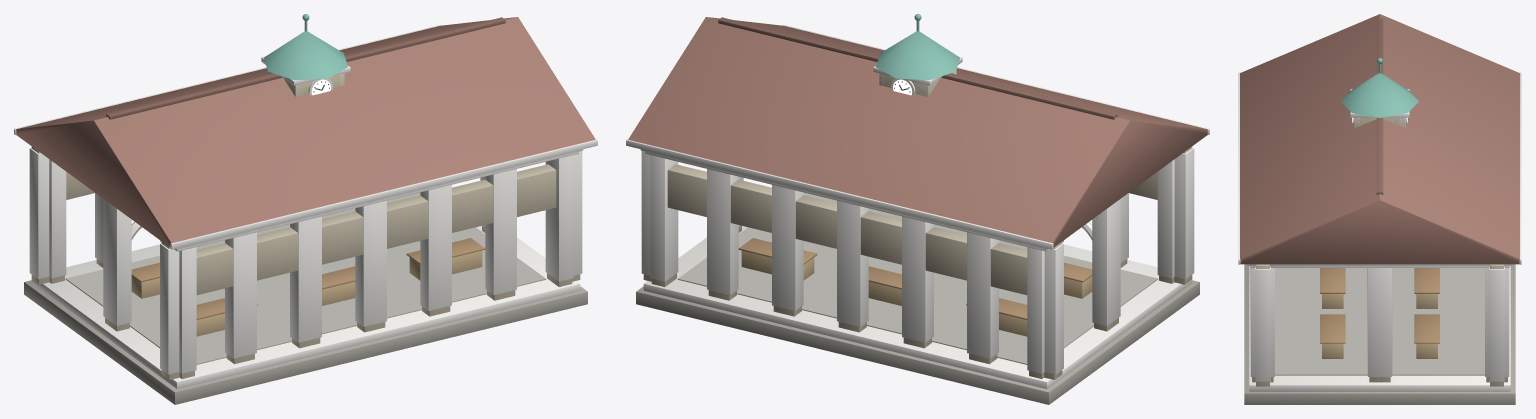
The model's file is th48_markthalle.glb.
The picture shows the model from 3 angles, left to right: view 1: azimuth 30°, elevation 25°; view 2: azimuth 150°, elevation 25°; view 3: azimuth 270°, elevation 25°; orthographic projection. The views are drawn at different scales.
Parts seen in each view (by area): view 1: Satteldach, Cube.056, Cube.001, Cube, Cube.011, Cube.007, Cube.019, Cube.015, Cube.023, Cube.033, Cube.069, Cube.037 (+21 smaller); view 2: Satteldach, Cube.056, Cube.001, Cube, Cube.013, Cube.009, Cube.021, Cube.017, Cube.025, Cube.033, Cube.070, Cube.041 (+21 smaller); view 3: Satteldach, Cube.056, Cube, Cube.001, Cube.039, Cone, Cube.027, Cube.029, Cube.037, Cube.041, Cube.071, Cube.066 (+12 smaller).
Boxes of the visible parts, bbox=[...] form: Satteldach: bbox=[16, 17, 595, 247]; Cube.056: bbox=[65, 192, 546, 364]; Cube.001: bbox=[31, 226, 580, 388]; Cube: bbox=[24, 280, 587, 404]; Cube.011: bbox=[290, 216, 321, 342]; Cube.007: bbox=[225, 232, 256, 358]; Cube.019: bbox=[420, 184, 451, 310]; Cube.015: bbox=[355, 200, 386, 326]; Cube.023: bbox=[485, 169, 516, 294]; Cube.033: bbox=[103, 199, 131, 325]; Cube.069: bbox=[170, 139, 597, 249]; Cube.037: bbox=[545, 155, 573, 281]; Satteldach: bbox=[628, 17, 1207, 247]; Cube.056: bbox=[677, 192, 1158, 364]; Cube.001: bbox=[643, 226, 1192, 388]; Cube: bbox=[636, 280, 1199, 404]; Cube.013: bbox=[902, 216, 933, 342]; Cube.009: bbox=[967, 232, 998, 358]; Cube.021: bbox=[772, 184, 803, 310]; Cube.017: bbox=[837, 200, 868, 326]; Cube.025: bbox=[707, 169, 738, 294]; Cube.033: bbox=[1092, 199, 1120, 325]; Cube.070: bbox=[626, 139, 1053, 249]; Cube.041: bbox=[650, 155, 678, 281]; Satteldach: bbox=[1240, 14, 1519, 264]; Cube.056: bbox=[1275, 268, 1484, 375]; Cube: bbox=[1244, 264, 1515, 404]; Cube.001: bbox=[1249, 266, 1510, 391]; Cube.039: bbox=[1367, 268, 1392, 376]; Cone: bbox=[1341, 73, 1418, 117]; Cube.027: bbox=[1255, 267, 1270, 381]; Cube.029: bbox=[1489, 267, 1504, 381]; Cube.037: bbox=[1250, 268, 1274, 376]; Cube.041: bbox=[1485, 268, 1509, 376]; Cube.071: bbox=[1376, 18, 1383, 194]; Cube.066: bbox=[1320, 314, 1345, 343].
Size of the model in its own units: 22.5 by 14.38 by 14.42.
Materials: 12 (1 with a texture image).
